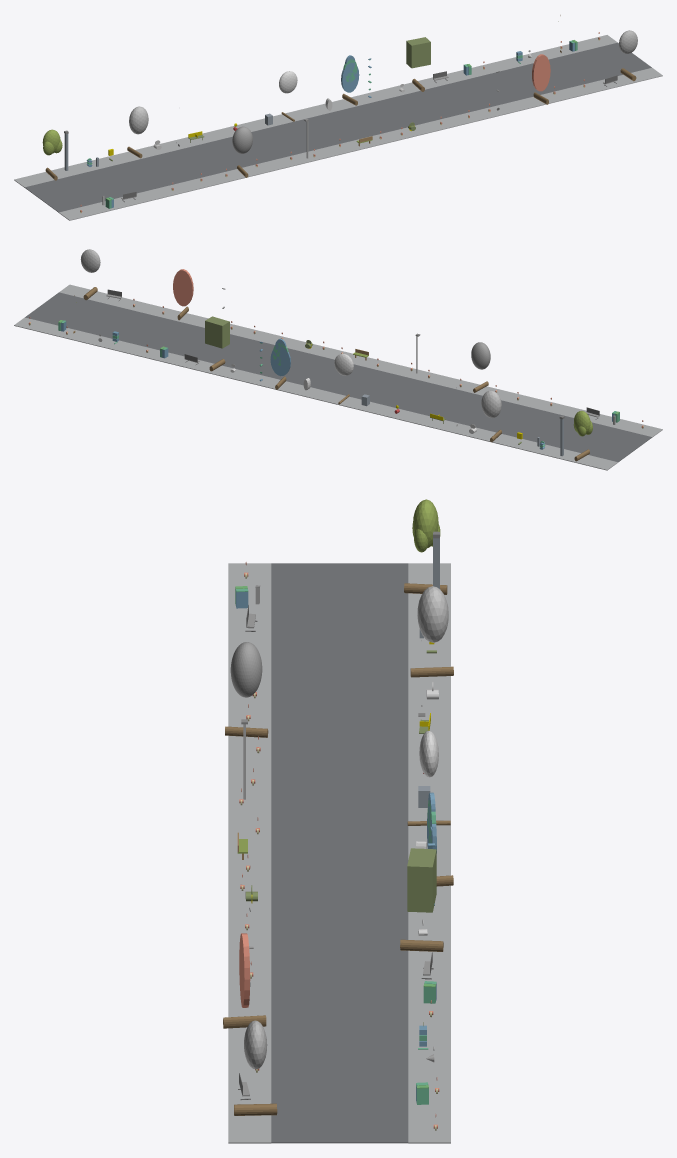
The picture shows the model from 3 angles, top to bottom: view 1: azimuth 30°, elevation 25°; view 2: azimuth 150°, elevation 25°; view 3: azimuth 270°, elevation 25°; orthographic projection. The views are drawn at different scales.
Visible parts, largest first — view 1: road_slab, sidewalk_left, sidewalk_right, inst_0023, inst_0024, inst_0022, inst_0019, inst_0020, inst_0018, inst_0025, inst_0021; view 2: road_slab, sidewalk_right, sidewalk_left, inst_0023, inst_0024, inst_0022, inst_0019, inst_0020, inst_0025, inst_0018, inst_0021; view 3: road_slab, sidewalk_left, sidewalk_right, inst_0023, inst_0019, inst_0020, inst_0025, inst_0018, inst_0024, inst_0021.
Part boxes in pixels (box(x1,y1,x2,y2)): road_slab: box(24, 42, 651, 212); sidewalk_left: box(59, 68, 662, 220); sidewalk_right: box(14, 35, 617, 187); inst_0023: box(406, 37, 430, 91); inst_0024: box(532, 54, 550, 104); inst_0022: box(341, 55, 359, 105); inst_0019: box(127, 106, 148, 158); inst_0020: box(232, 126, 252, 177); inst_0018: box(42, 129, 62, 180); inst_0025: box(619, 30, 637, 81); inst_0021: box(279, 71, 297, 121); road_slab: box(25, 292, 652, 462); sidewalk_right: box(14, 317, 617, 470); sidewalk_left: box(59, 284, 662, 437); inst_0023: box(205, 316, 229, 371); inst_0024: box(173, 269, 193, 320); inst_0022: box(270, 338, 290, 389); inst_0019: box(481, 390, 501, 442); inst_0020: box(471, 342, 490, 392); inst_0025: box(80, 249, 100, 300); inst_0018: box(573, 411, 592, 461); inst_0021: box(334, 353, 353, 404); road_slab: box(271, 563, 408, 1143); sidewalk_left: box(228, 563, 271, 1143); sidewalk_right: box(408, 563, 450, 1143); inst_0023: box(400, 848, 443, 951); inst_0019: box(410, 586, 453, 677); inst_0020: box(225, 642, 268, 737); inst_0025: box(234, 1020, 277, 1115); inst_0018: box(404, 499, 447, 594); inst_0024: box(223, 933, 266, 1028); inst_0021: box(407, 730, 450, 825).
Bounding box in the file's own units: 80 × 6.08 × 13.47.
